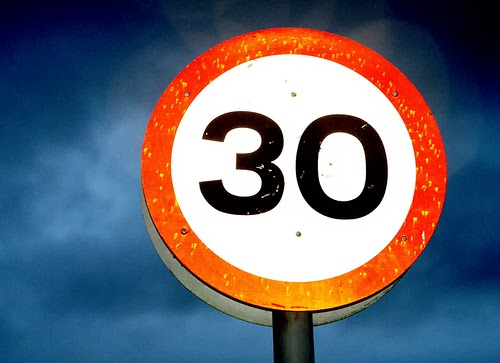Speed_limit_30km: (137, 27, 449, 313)
